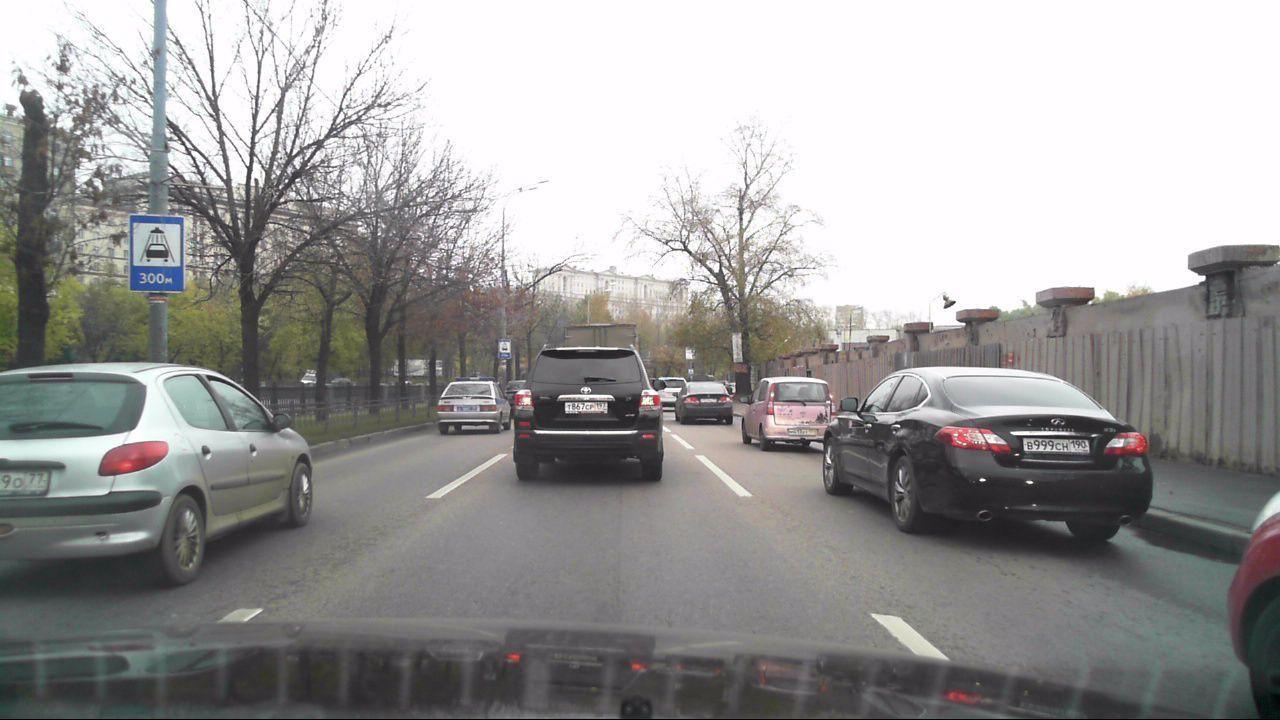7_5: (129, 215, 186, 290), (497, 337, 513, 359)
